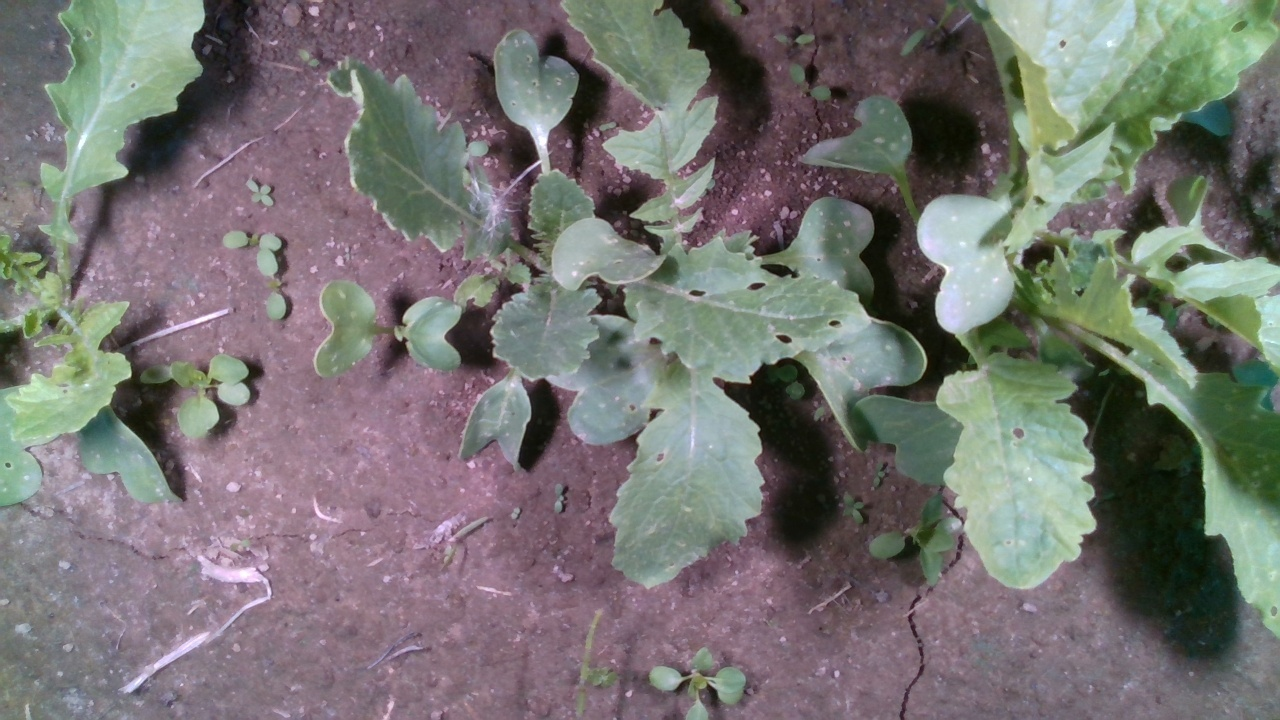weed: (787, 61, 834, 102), (245, 179, 275, 208), (841, 493, 866, 527), (296, 46, 319, 69), (771, 34, 819, 45), (554, 484, 564, 515), (510, 505, 522, 521)
